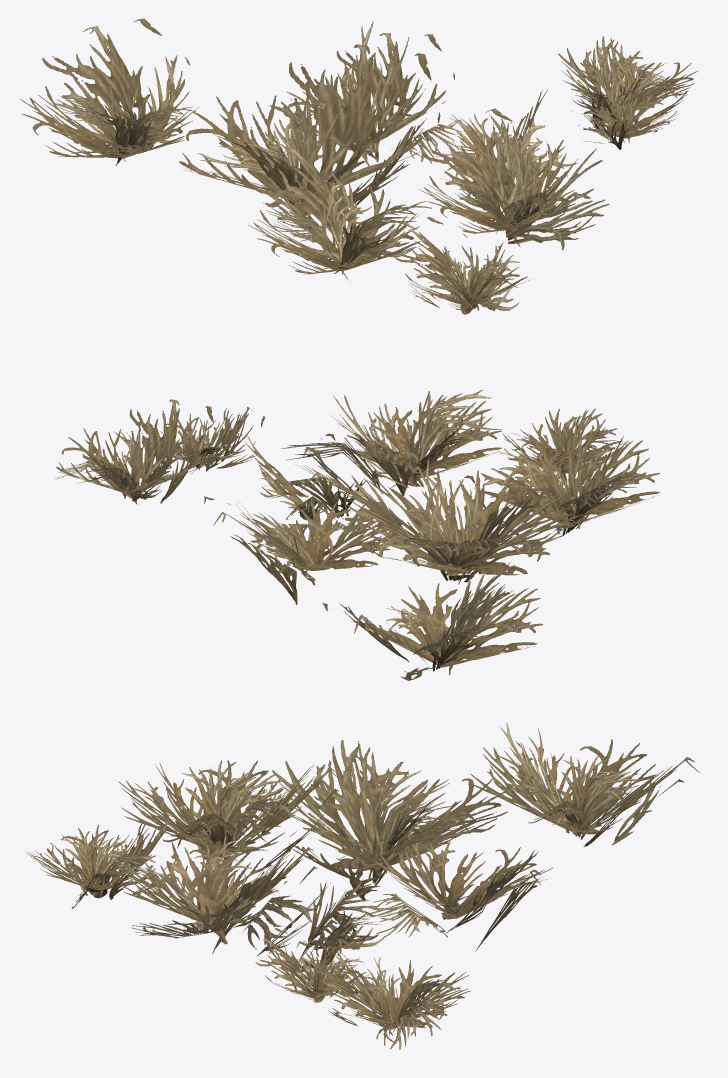
Rendered from sm_cao_01.fbx.
The picture shows the model from 3 angles, top to bottom: view 1: azimuth 30°, elevation 25°; view 2: azimuth 150°, elevation 25°; view 3: azimuth 270°, elevation 25°; orthographic projection. The views are drawn at different scales.
Parts seen in each view (by area): view 1: sm_cao_01; view 2: sm_cao_01; view 3: sm_cao_01.
Part boxes in pixels (x1,y1,x2,y2): sm_cao_01: (20,18,698,314); sm_cao_01: (56,390,659,680); sm_cao_01: (26,722,700,1049).
Size of the model in its own units: 990 by 225 by 946.
